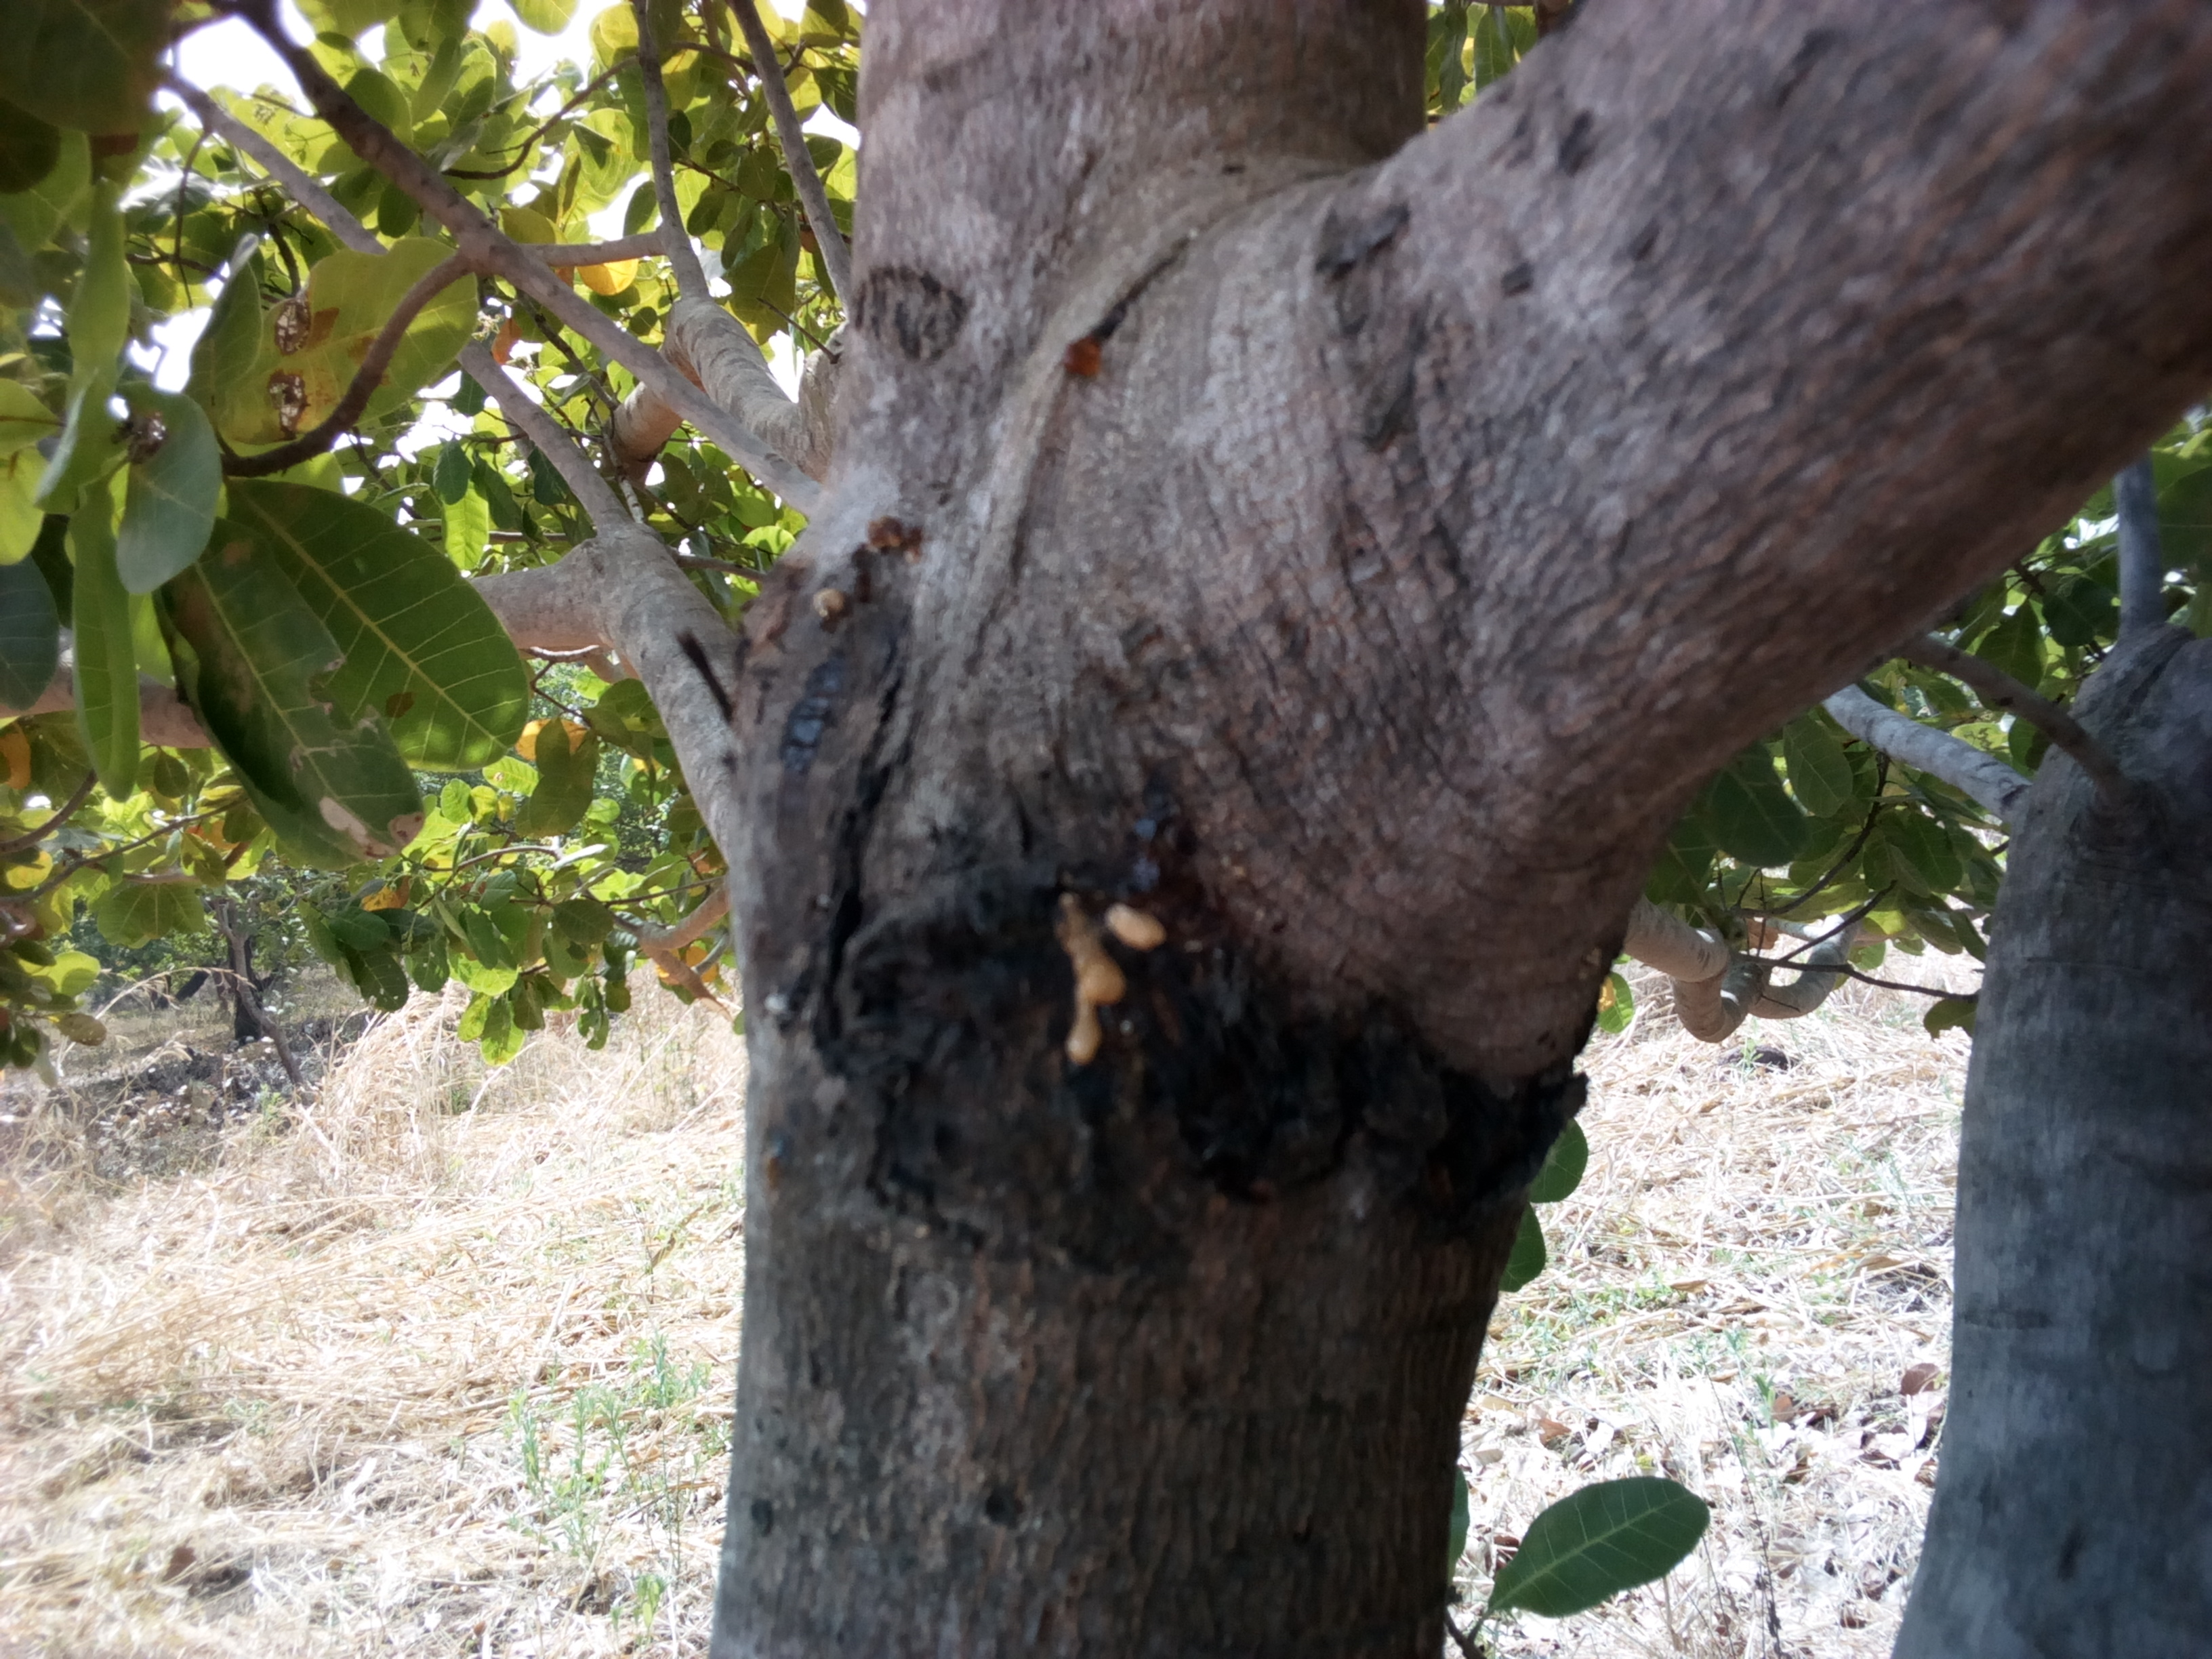Gommose: (817, 836, 1585, 1262)
